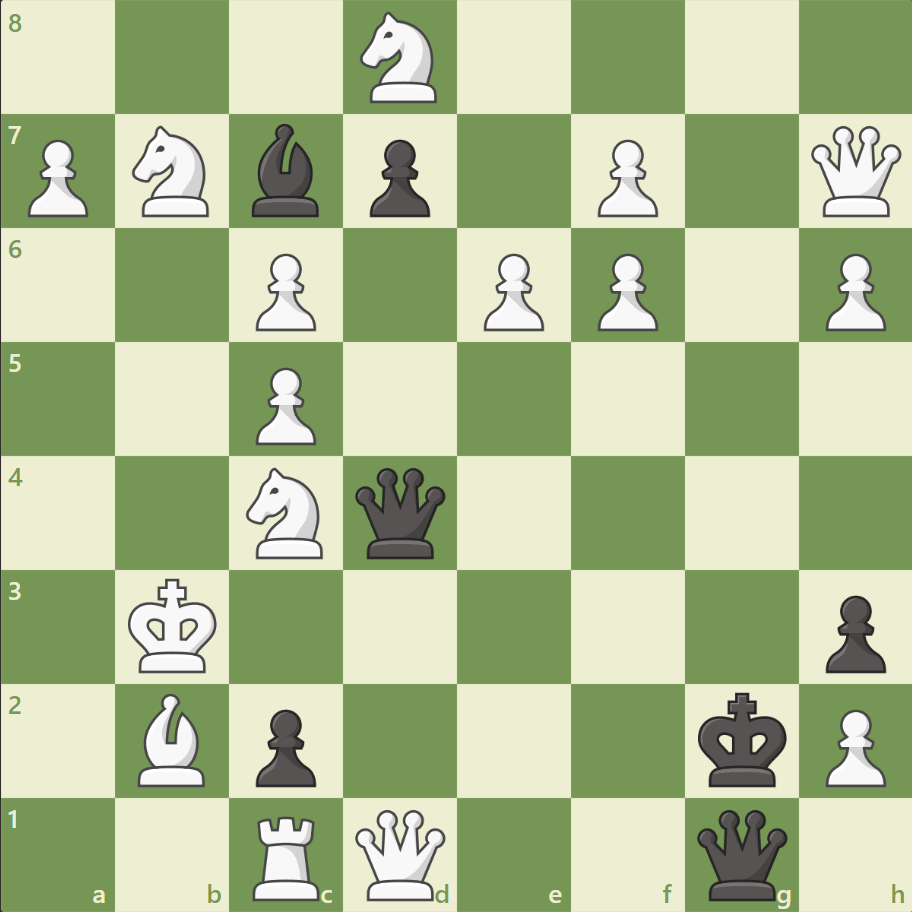B: (131, 687, 215, 790)
K: (124, 571, 224, 679)
N: (351, 7, 449, 110), (124, 121, 222, 223), (238, 461, 335, 564)
P: (20, 132, 95, 223), (247, 246, 322, 337), (474, 246, 549, 337), (247, 359, 322, 450), (588, 132, 662, 223), (588, 246, 662, 337), (815, 246, 889, 337), (815, 700, 889, 791)
Q: (805, 122, 904, 222), (351, 804, 450, 903)
R: (246, 806, 329, 904)
b: (244, 120, 328, 222)
k: (692, 685, 792, 793)
p: (247, 700, 322, 791), (361, 132, 435, 223), (815, 586, 889, 677)
q: (351, 463, 450, 562), (691, 804, 790, 903)
